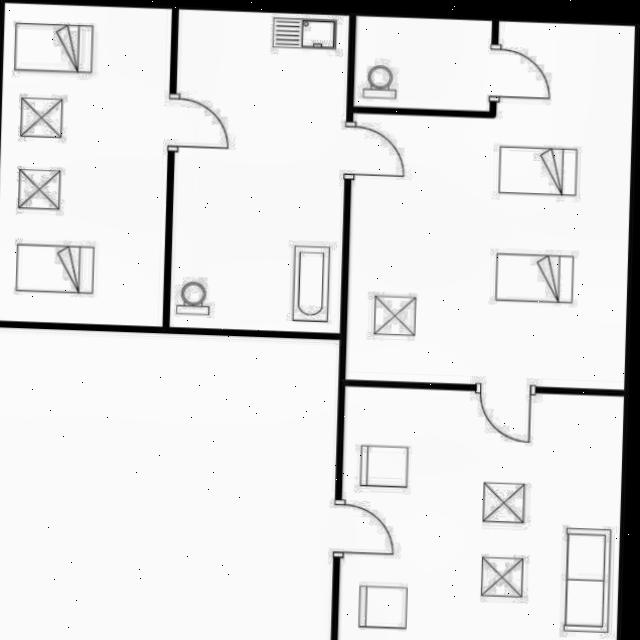room: (344, 16, 634, 390), (337, 386, 623, 640), (169, 9, 348, 333), (0, 3, 171, 327)
